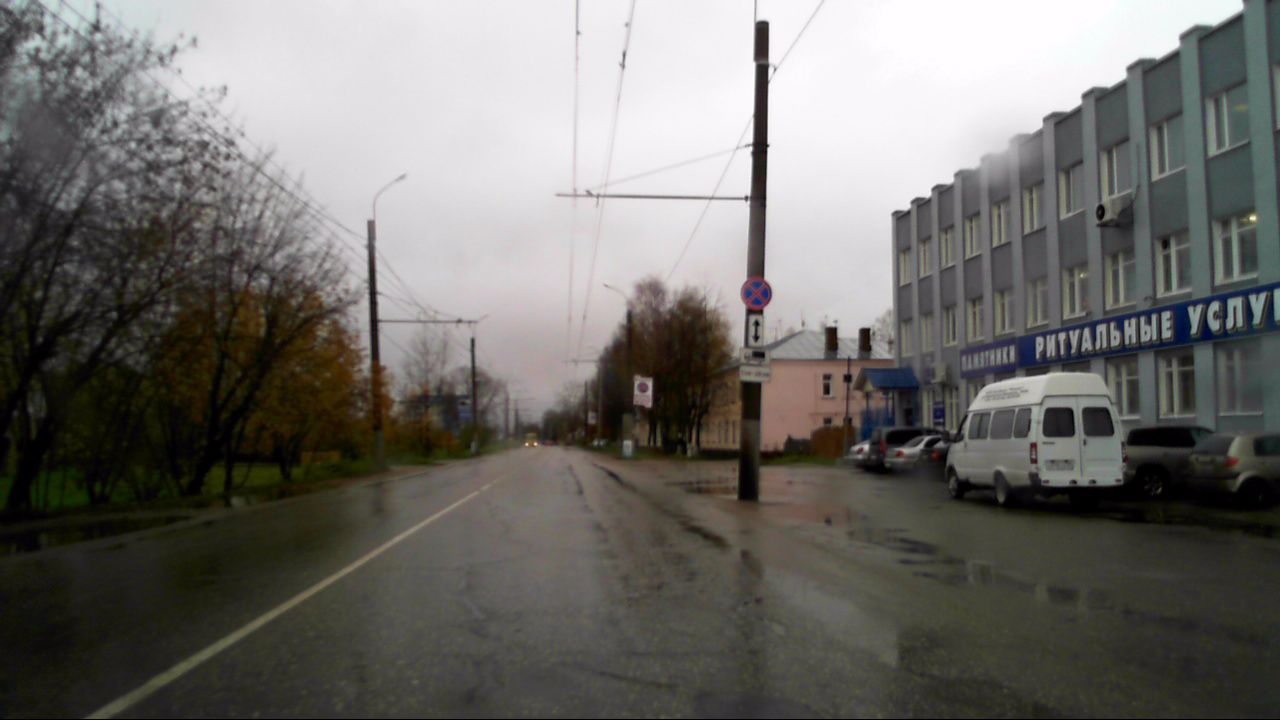No Parking: (740, 276, 772, 310)
